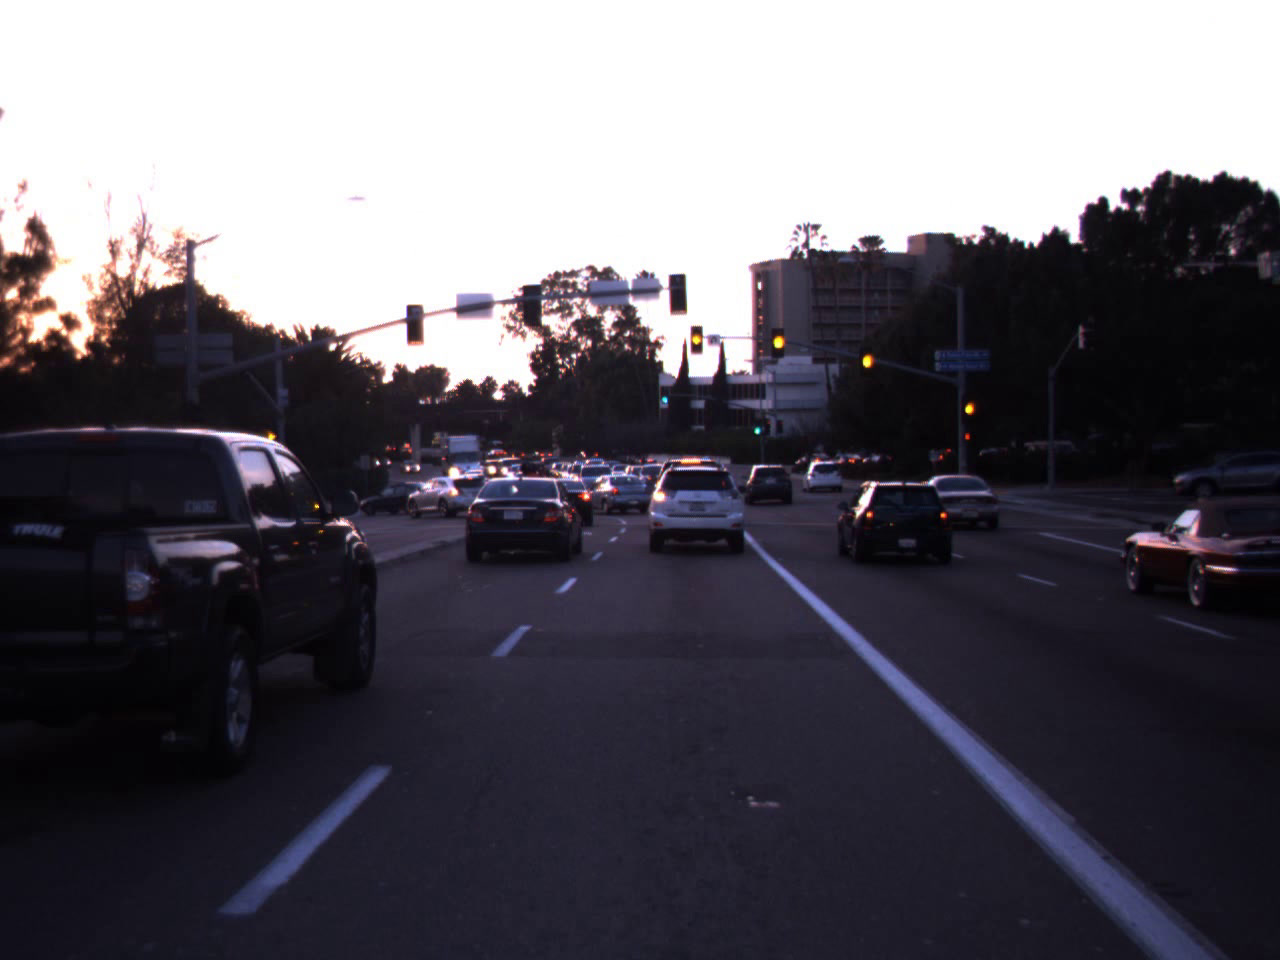go: (751, 411, 763, 436), (659, 384, 671, 404)
warning: (251, 413, 290, 453), (766, 312, 793, 366), (680, 317, 713, 357), (855, 337, 879, 382), (959, 389, 980, 425)
